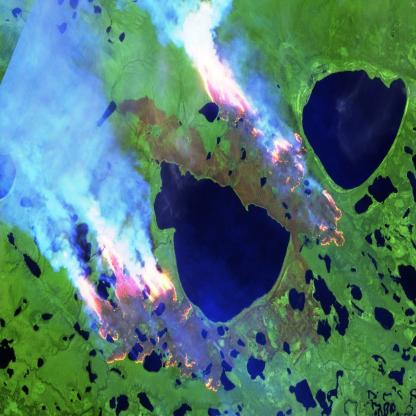fire: (76, 0, 348, 396)
